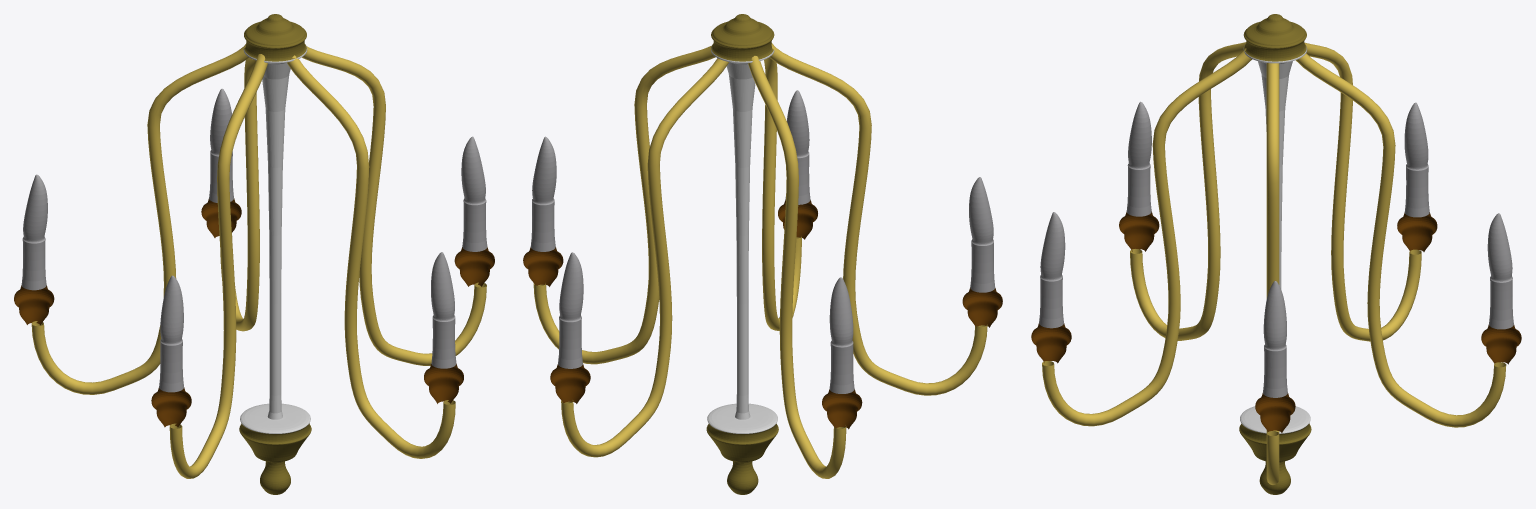
File: Chandelier tetangga.fbx
3 views of the same model, side by side, from view 1: azimuth 30°, elevation 25°; view 2: azimuth 150°, elevation 25°; view 3: azimuth 270°, elevation 25° (orthographic).
Parts seen in each view (by area): view 1: BezierCurve, Circle.001, Circle; view 2: BezierCurve, Circle.001, Circle; view 3: BezierCurve, Circle.001, Circle.
Boxes of the visible parts, x1,y1,x2,y2 form: BezierCurve: (31, 43, 486, 478); Circle.001: (14, 88, 494, 427); Circle: (239, 14, 311, 494); BezierCurve: (533, 43, 987, 478); Circle.001: (523, 90, 1002, 429); Circle: (706, 14, 778, 494); BezierCurve: (1042, 42, 1506, 484); Circle.001: (1031, 101, 1521, 433); Circle: (1239, 14, 1311, 494).
Size of the model in its own units: 749 by 840 by 782.
